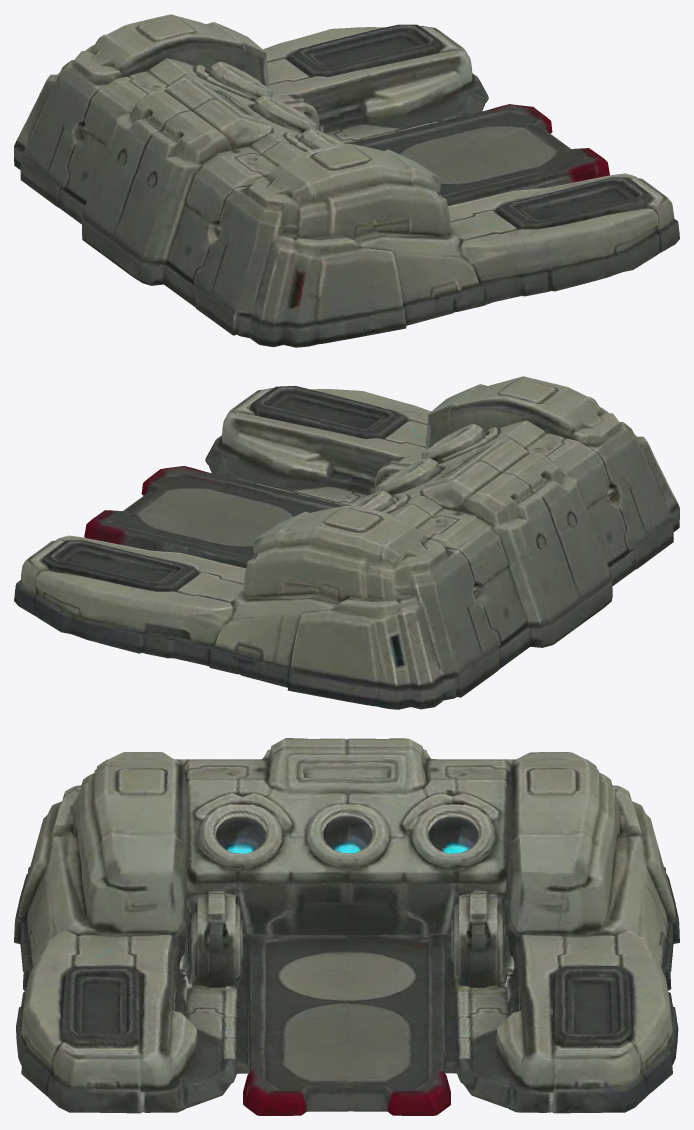
File: arc-team-reactor-lean.glb
The picture shows the model from 3 angles, top to bottom: view 1: azimuth 30°, elevation 25°; view 2: azimuth 150°, elevation 25°; view 3: azimuth 270°, elevation 25°; orthographic projection. The views are drawn at different scales.
Parts seen in each view (by area): view 1: chassis; view 2: chassis; view 3: chassis.
Boxes of the visible parts, x1=… form: chassis: x1=14, y1=14, x2=679, y2=347; chassis: x1=14, y1=376, x2=679, y2=709; chassis: x1=14, y1=738, x2=679, y2=1115.
Bounding box in the file's own units: 1.4 × 0.4037 × 1.5.
Materials: 1 (1 with a texture image).
